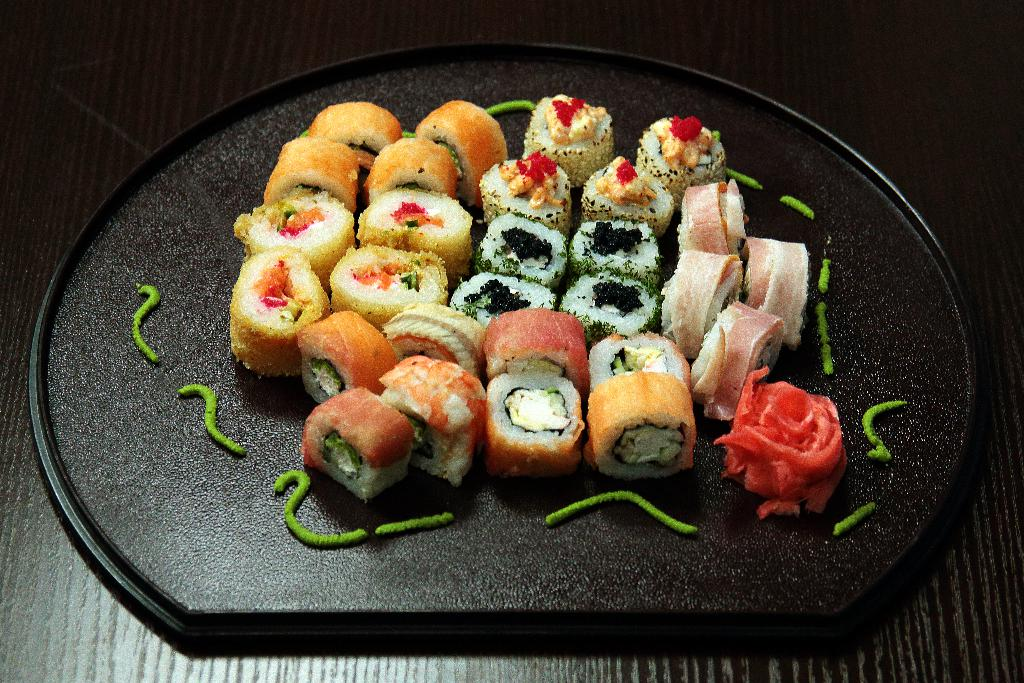sushi: (231, 91, 812, 498), (229, 235, 313, 384), (307, 386, 412, 499)
